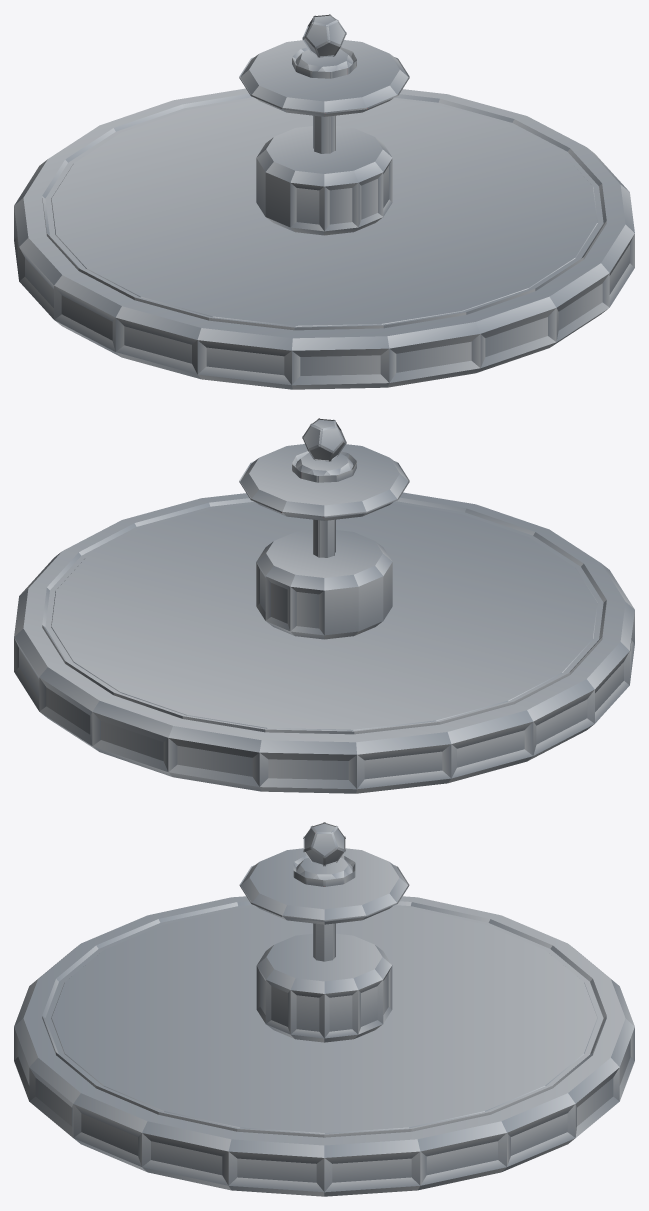
File: dt_fountain.fbx
3 views of the same model, one above another, from view 1: azimuth 30°, elevation 25°; view 2: azimuth 150°, elevation 25°; view 3: azimuth 270°, elevation 25° (orthographic).
Visible parts, largest first — view 1: dt_fountain; view 2: dt_fountain; view 3: dt_fountain.
Part boxes in pixels (bbox=[...]): dt_fountain: bbox=[14, 14, 634, 389]; dt_fountain: bbox=[14, 418, 634, 793]; dt_fountain: bbox=[14, 822, 634, 1196].
Bounding box in the file's own units: 1300 × 558 × 1300.
